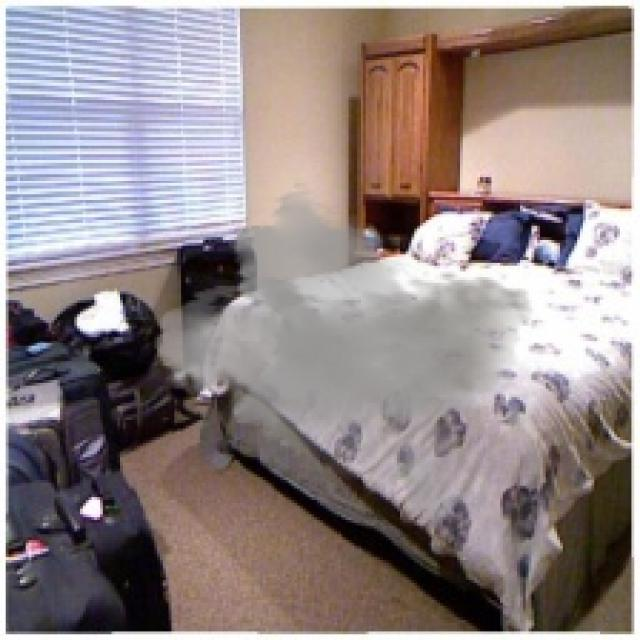smoke: (155, 180, 534, 534)
